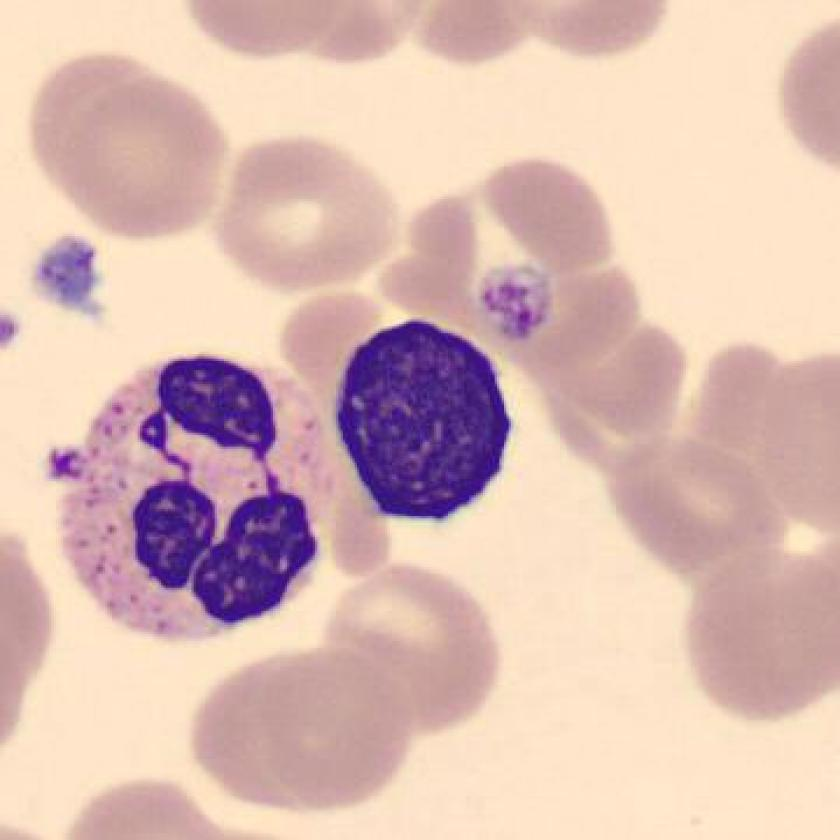lymphocyte: (326, 313, 522, 531)
